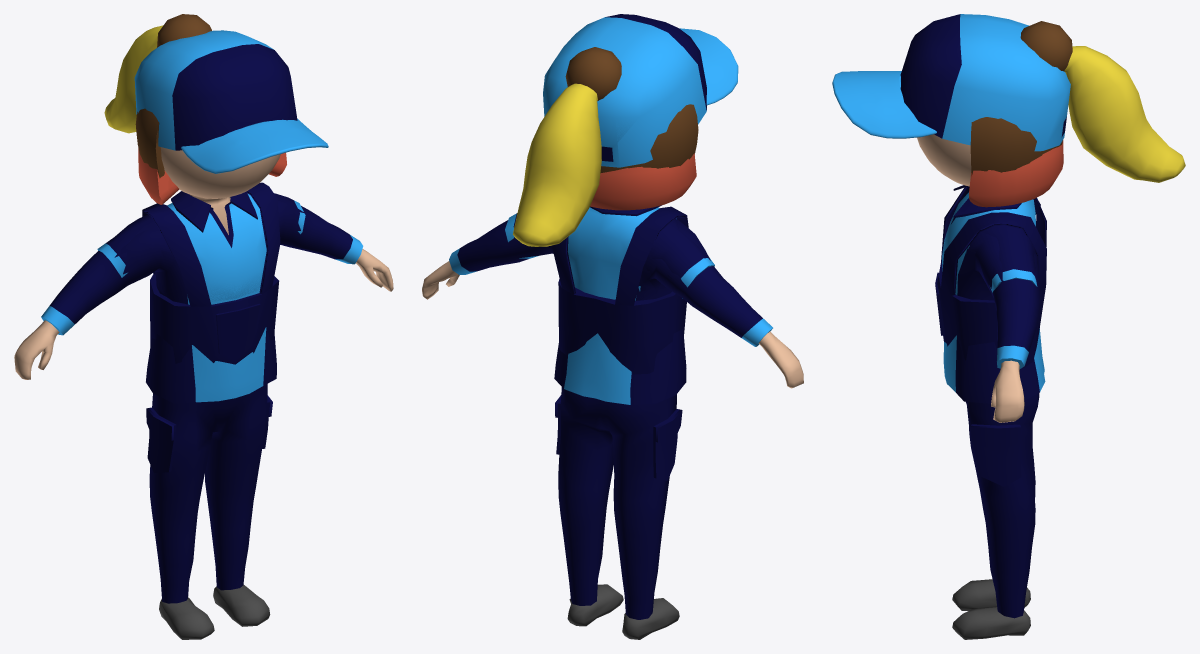
The model's file is calisanlar.fbx.
The picture shows the model from 3 angles, left to right: view 1: azimuth 30°, elevation 25°; view 2: azimuth 150°, elevation 25°; view 3: azimuth 270°, elevation 25°; orthographic projection.
Parts seen in each view (by area): view 1: govde, tamirci, tshirt, kadinSapkaSac, ErkekSapka, uzunkollu, kadinSac2, kadinSac1; view 2: govde, tamirci, tshirt, ErkekSapka, kadinSac2, kadinSapkaSac, uzunkollu, kadinSac1; view 3: govde, ErkekSapka, kadinSapkaSac, tamirci, kadinSac2, tshirt, kadinSac1, uzunkollu.
Part boxes in pixels (<box>): govde: <box>14,147,393,639</box>; tamirci: <box>99,31,327,596</box>; tshirt: <box>97,191,305,403</box>; kadinSapkaSac: <box>138,30,328,204</box>; ErkekSapka: <box>134,30,327,173</box>; uzunkollu: <box>41,197,363,335</box>; kadinSac2: <box>104,25,163,133</box>; kadinSac1: <box>135,14,211,178</box>; govde: <box>422,261,803,639</box>; tamirci: <box>510,16,737,615</box>; tshirt: <box>505,206,714,404</box>; ErkekSapka: <box>545,14,737,167</box>; kadinSac2: <box>513,83,601,246</box>; kadinSapkaSac: <box>547,14,738,210</box>; uzunkollu: <box>449,205,772,346</box>; kadinSac1: <box>565,47,698,173</box>; govde: <box>917,134,1039,639</box>; ErkekSapka: <box>833,14,1070,151</box>; kadinSapkaSac: <box>832,17,1063,207</box>; tamirci: <box>834,14,1070,367</box>; kadinSac2: <box>1064,46,1185,182</box>; tshirt: <box>942,185,1045,403</box>; kadinSac1: <box>970,21,1072,175</box>; uzunkollu: <box>954,188,1040,368</box>.
Size of the model in its own units: 118 by 177 by 95.72.
